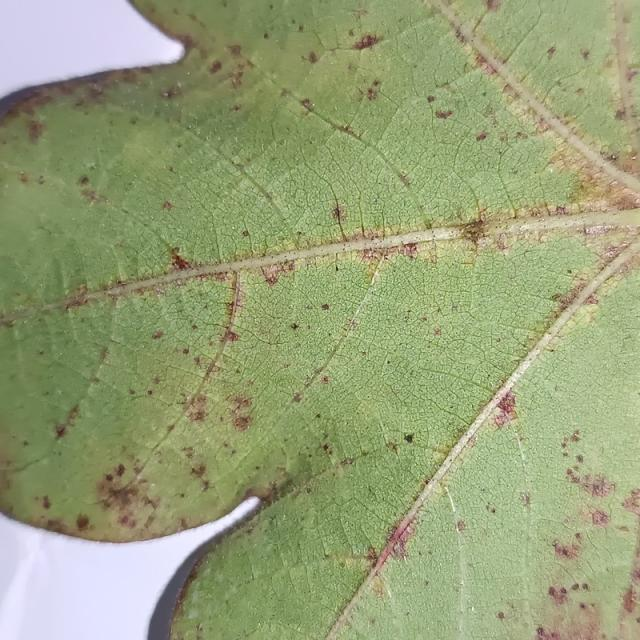Bacterial_Blight: (94, 468, 151, 525), (545, 601, 603, 638), (174, 256, 236, 287), (383, 516, 419, 562), (488, 379, 519, 425), (571, 469, 615, 500), (52, 401, 82, 441), (226, 394, 256, 430), (459, 215, 490, 249), (259, 258, 296, 285), (596, 242, 632, 269), (58, 284, 92, 311), (183, 393, 211, 424), (552, 538, 581, 559), (611, 190, 640, 211), (168, 250, 195, 272), (621, 584, 638, 618), (351, 33, 381, 51), (80, 188, 108, 207), (621, 490, 640, 517), (361, 80, 383, 103), (560, 433, 582, 455), (548, 584, 569, 604), (588, 508, 610, 527), (27, 119, 44, 143), (476, 59, 496, 77), (161, 83, 181, 100), (329, 204, 347, 222), (190, 462, 207, 479), (403, 242, 419, 258), (75, 514, 90, 531), (385, 440, 400, 455), (582, 293, 599, 306), (226, 44, 243, 57), (208, 60, 223, 74), (300, 98, 315, 112), (223, 330, 239, 342), (434, 109, 453, 119), (625, 68, 638, 82), (615, 107, 628, 121), (520, 492, 531, 508), (55, 425, 67, 439), (114, 463, 126, 477), (42, 495, 52, 510), (570, 430, 581, 443), (161, 200, 173, 211), (152, 329, 164, 340), (457, 520, 468, 532), (321, 443, 332, 455), (554, 205, 567, 215), (546, 46, 556, 59), (292, 392, 303, 403), (308, 51, 318, 63), (475, 132, 488, 141), (19, 172, 29, 183), (79, 175, 90, 185), (580, 49, 590, 60), (232, 103, 241, 112), (321, 375, 329, 383), (321, 303, 329, 311), (291, 322, 299, 330), (433, 328, 441, 335), (182, 347, 189, 355), (242, 230, 249, 237), (147, 389, 153, 396)
Cotton: (0, 0, 639, 639), (444, 0, 639, 174)
